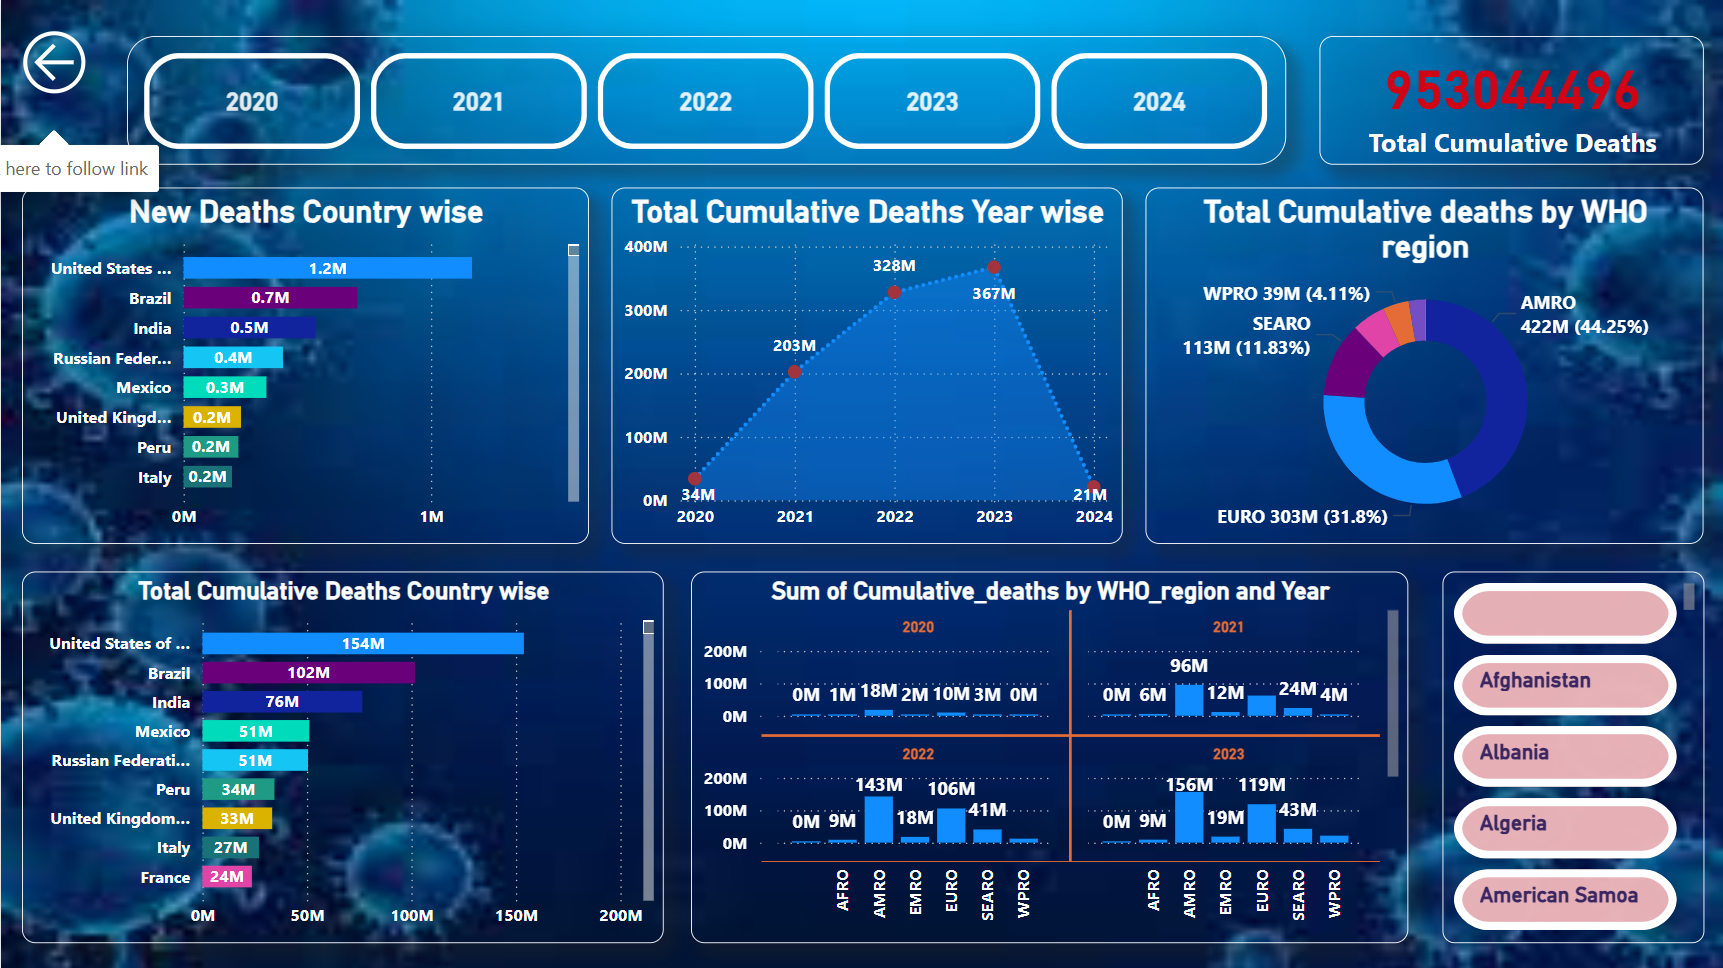

What the dashboard file says about the page in this screenshot:
{"tool":"powerbi","page":{"name":"Page 4","canvas":[1280,720],"ordinal":3},"visuals":[{"type":"barChart","title":"Total Cumulative Deaths Country wise","fields":{"Category":["WHO-COVID-19-global-data (3).Country"],"Y":["Sum(WHO-COVID-19-global-data (3).Cumulative_deaths)"],"Series":["WHO-COVID-19-global-data (3).Country"]},"box":[15.9,423.1,475.6,275.2],"z":0},{"type":"lineChart","title":"Total Cumulative Deaths Year wise","fields":{"Category":["WHO-COVID-19-global-data (3).Date_reported.Variation.Date Hierarchy.Year"],"Y":["Sum(WHO-COVID-19-global-data (3).Cumulative_deaths)"]},"box":[451.7,138.4,378.6,264],"z":1000},{"type":"barChart","title":"New Deaths Country wise","fields":{"Category":["WHO-COVID-19-global-data (3).Country"],"Y":["Sum(WHO-COVID-19-global-data (3).New_deaths)"],"Series":["WHO-COVID-19-global-data (3).Country"]},"box":[15.9,138.4,419.9,264],"z":2000},{"type":"advancedSlicerVisual","fields":{"Values":["WHO-COVID-19-global-data (3).Date_reported.Variation.Date Hierarchy.Year"]},"box":[92.3,11.1,858.9,111.3],"z":3000},{"type":"advancedSlicerVisual","title":"Choose a country","fields":{"Values":["WHO-COVID-19-global-data (3).Country"]},"box":[1067.3,423.1,194.1,275.2],"z":4000},{"type":"card","fields":{"Values":["Sum(WHO-COVID-19-global-data (3).Cumulative_deaths)"]},"box":[976.6,27,284.7,95.4],"z":5000},{"type":"clusteredColumnChart","fields":{"Category":["WHO-COVID-19-global-data (3).WHO_region"],"Rows":["WHO-COVID-19-global-data (3).Date_reported.Variation.Date Hierarchy.Year"],"Y":["Sum(WHO-COVID-19-global-data (3).Cumulative_deaths)"]},"box":[510.6,423.1,531.3,275.2],"z":6000},{"type":"donutChart","title":"Total Cumulative deaths by WHO region","fields":{"Category":["WHO-COVID-19-global-data (3).WHO_region"],"Y":["Sum(WHO-COVID-19-global-data (3).Cumulative_deaths)"]},"box":[847.8,138.4,413.6,264],"z":7000},{"type":"actionButton","box":[0,0,79.5,92.3],"z":8000}]}

Visuals, with their boxes in screenshot pixels (x1, y1, x2, y2), scaled from the page's 1280x720 canvas onto the 1723x968 screenshot:
"Total Cumulative Deaths Country wise" barChart: <bbox>21, 569, 662, 939</bbox>
"Total Cumulative Deaths Year wise" lineChart: <bbox>608, 186, 1118, 541</bbox>
"New Deaths Country wise" barChart: <bbox>21, 186, 587, 541</bbox>
advancedSlicerVisual - WHO-COVID-19-global-data (3).Date_reported.Variation.Date Hierarchy.Year: <bbox>124, 15, 1280, 165</bbox>
"Choose a country" advancedSlicerVisual: <bbox>1437, 569, 1698, 939</bbox>
card - Sum(WHO-COVID-19-global-data (3).Cumulative_deaths): <bbox>1315, 36, 1698, 165</bbox>
clusteredColumnChart - WHO-COVID-19-global-data (3).WHO_region x WHO-COVID-19-global-data (3).Date_reported.Variation.Date Hierarchy.Year: <bbox>687, 569, 1402, 939</bbox>
"Total Cumulative deaths by WHO region" donutChart: <bbox>1141, 186, 1698, 541</bbox>
actionButton: <bbox>0, 0, 107, 124</bbox>
